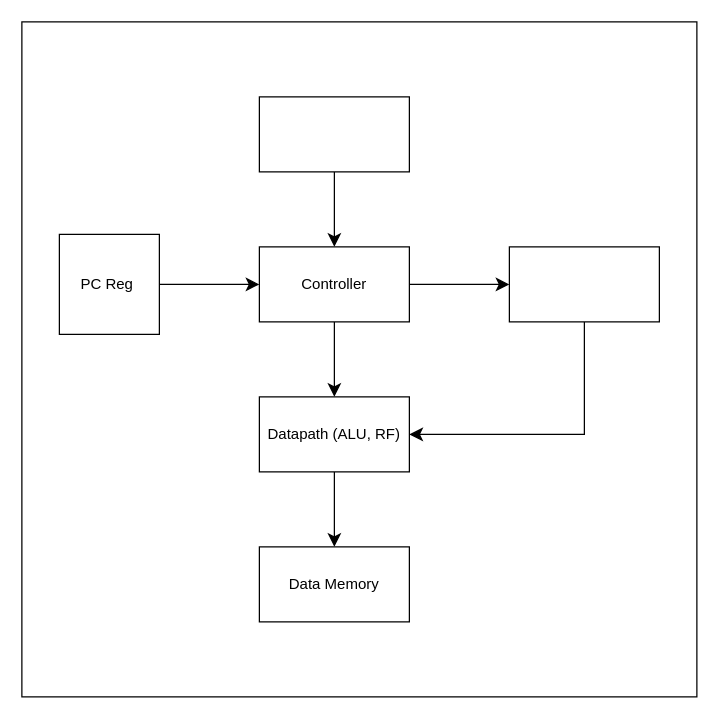
The diagram is 719 pixels wide and 719 high, and some of its shapes have lost their labels. The shapes that lost their labels are listed below. From the top down, each one's centre as x and y in pixels, then its label:
the point at 333,134: Instruction Memory
the point at 583,284: Hazard Unit
